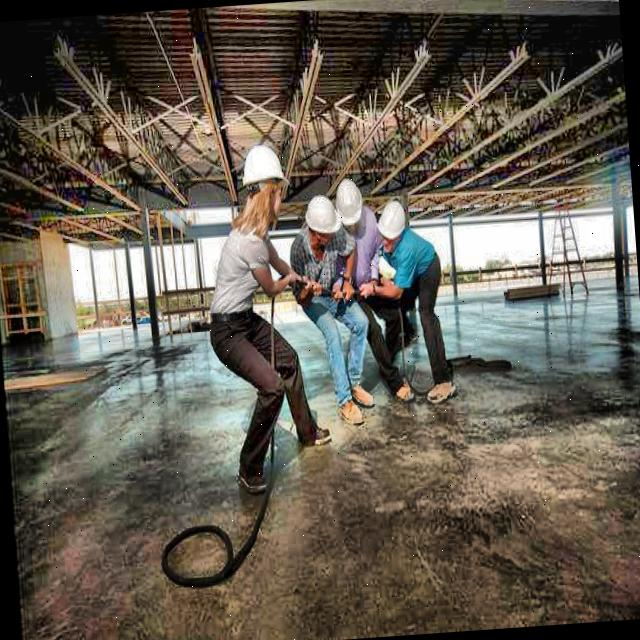helmet: (240, 144, 289, 225), (301, 194, 343, 252), (332, 174, 366, 233), (372, 198, 408, 253)
